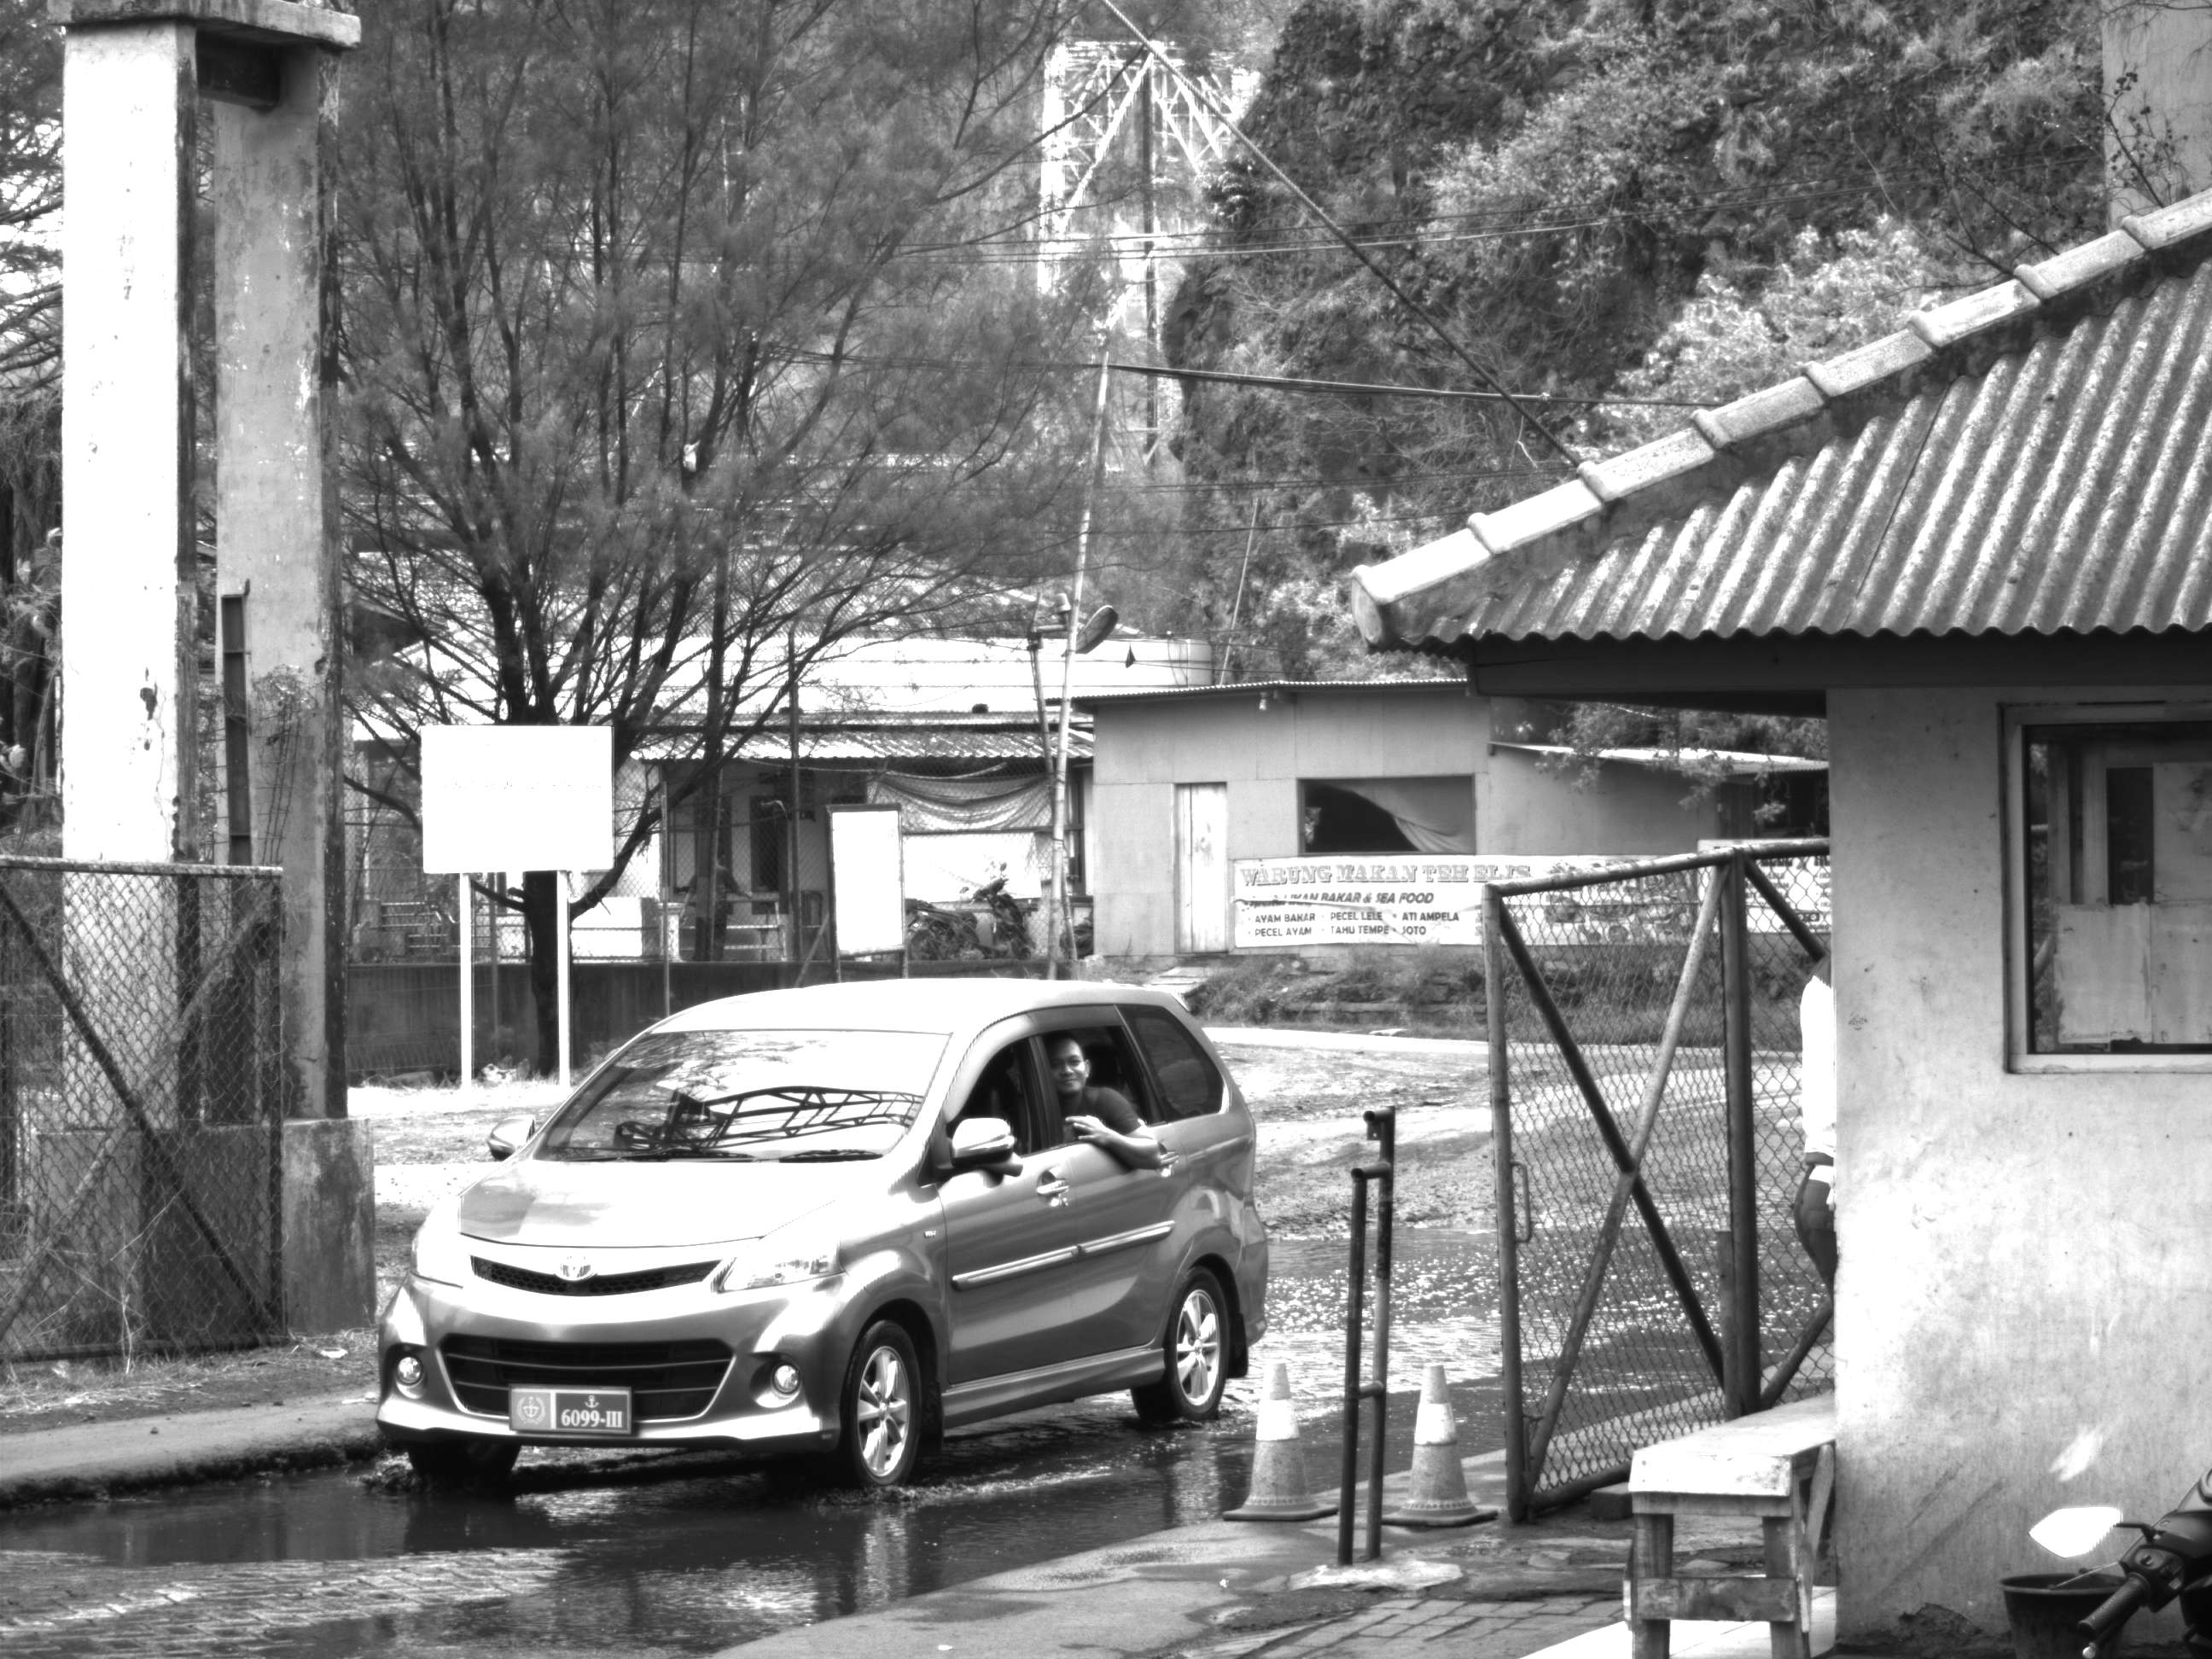day_small_front: (352, 988, 991, 1500)
plate: (504, 1385, 642, 1441)
